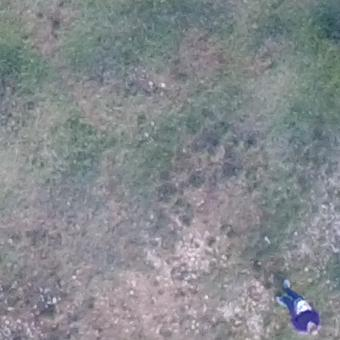human: (271, 279, 324, 338)
